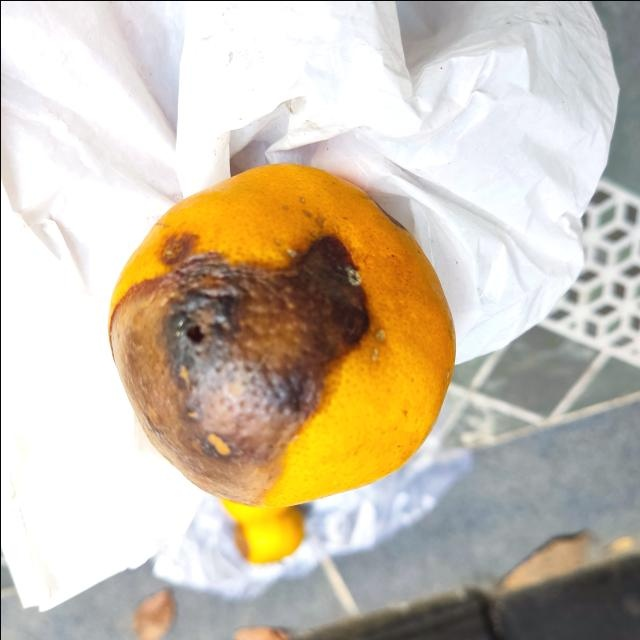agrume: (108, 161, 457, 507)
